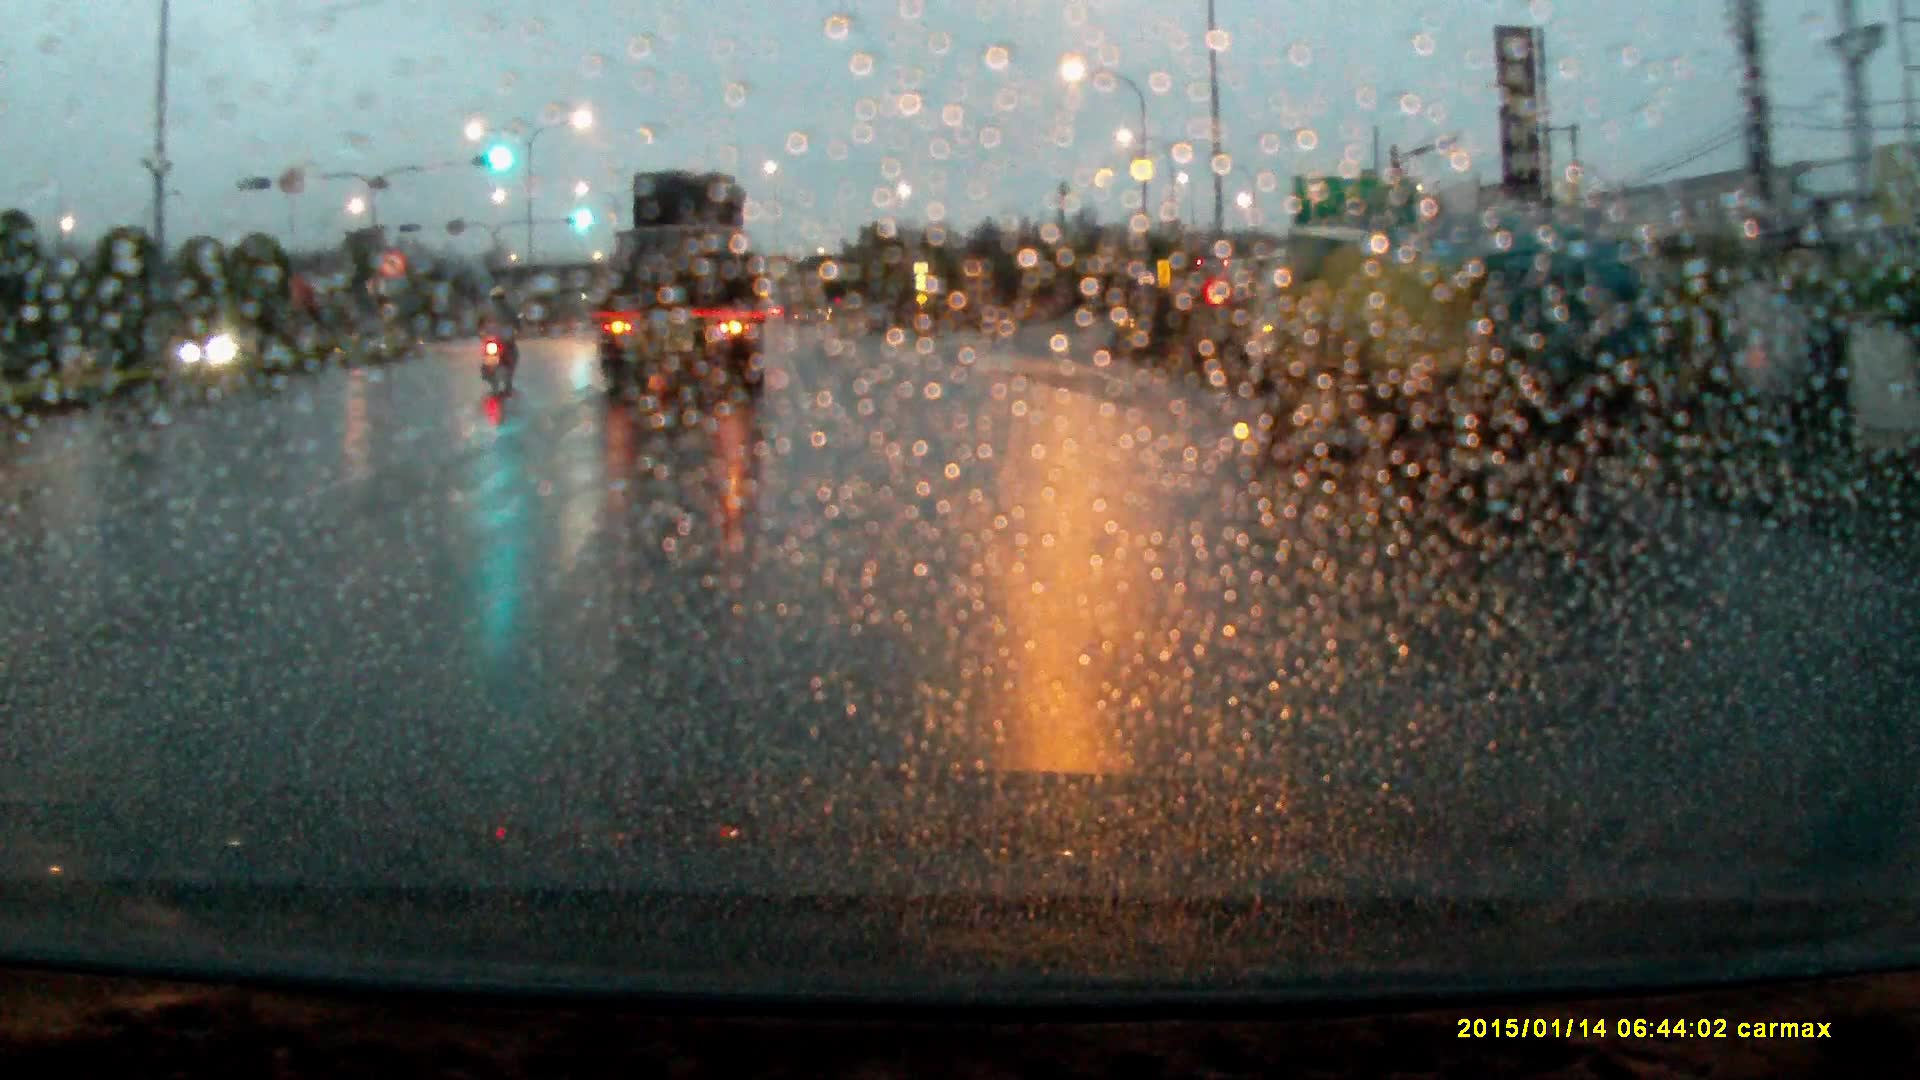rider: (476, 287, 525, 399)
vehicle: (1248, 210, 1648, 474), (594, 173, 769, 401)
